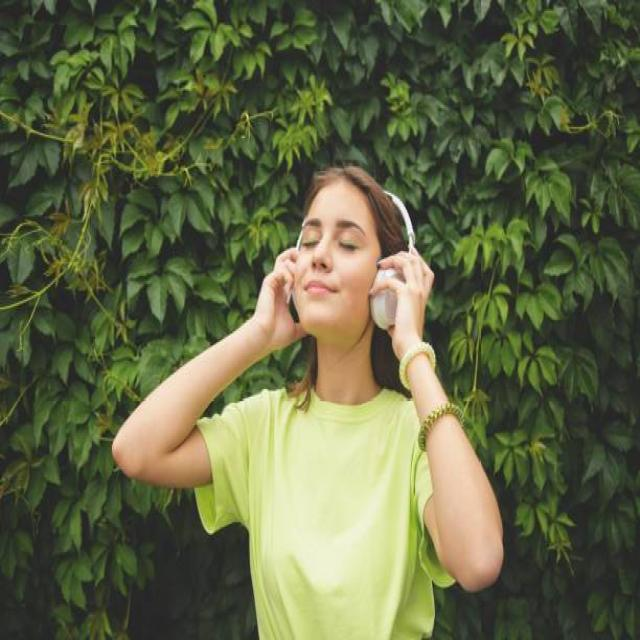Headphone: (292, 172, 416, 334)
